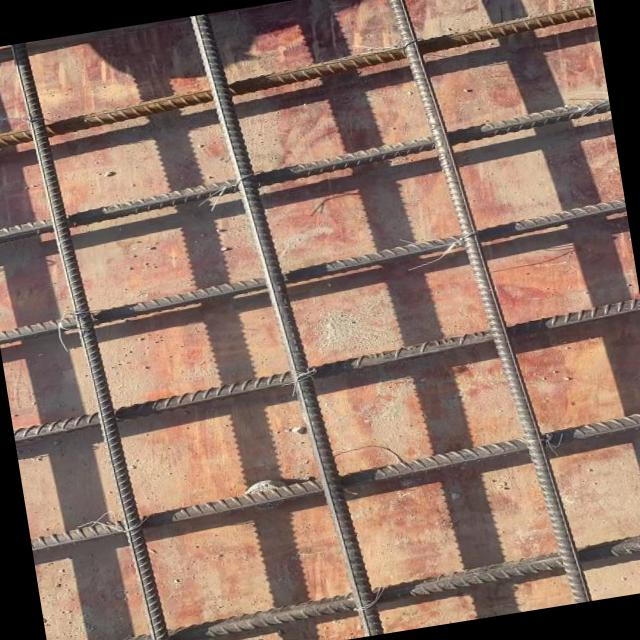ribbed bar: (379, 0, 593, 617), (189, 1, 388, 640), (8, 34, 176, 640), (8, 296, 640, 446), (0, 96, 615, 248), (0, 196, 631, 344), (0, 2, 601, 155), (26, 408, 640, 553), (44, 527, 640, 640)
